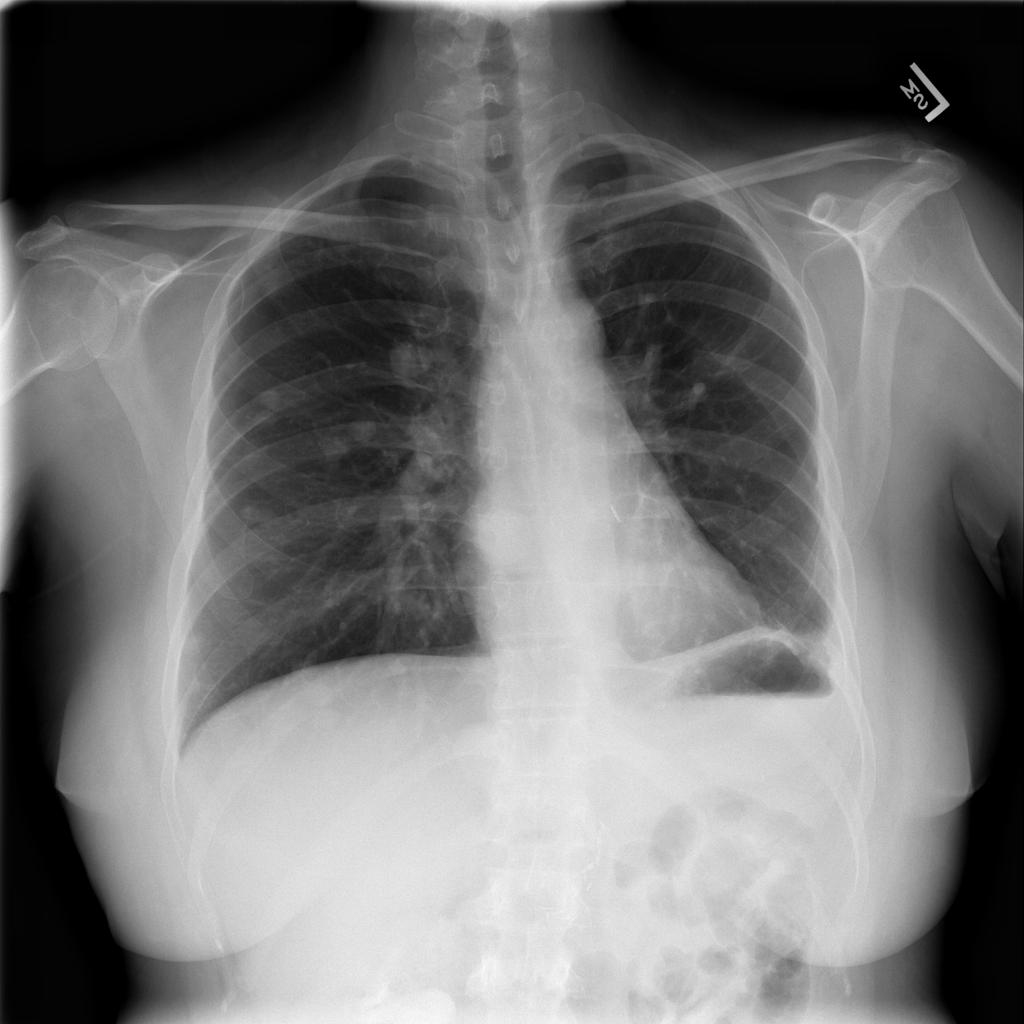nodule: (376, 329, 454, 395), (170, 613, 224, 664), (242, 380, 298, 427), (319, 416, 377, 461), (226, 492, 286, 535)
